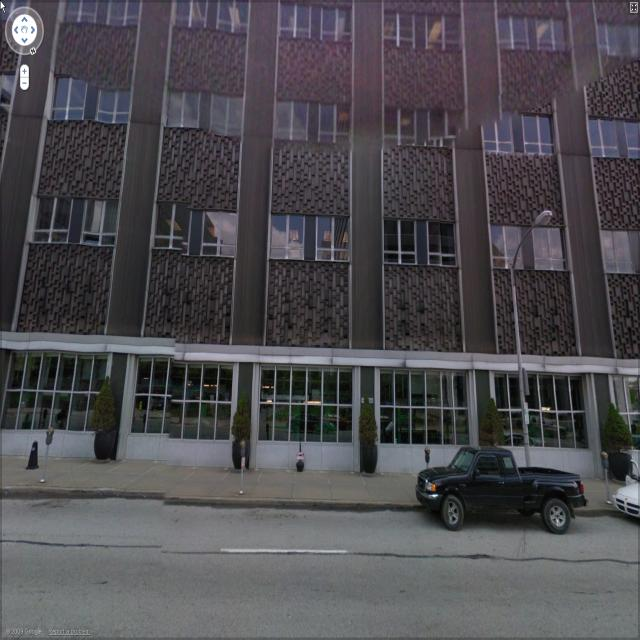window: (143, 188, 197, 259), (27, 187, 77, 252), (524, 210, 568, 280), (78, 193, 122, 253), (474, 104, 518, 161), (486, 8, 536, 58), (202, 201, 241, 265), (377, 96, 421, 152), (376, 212, 420, 268), (518, 108, 562, 163), (484, 217, 522, 279), (309, 207, 349, 265), (52, 72, 92, 129), (580, 110, 622, 164), (96, 81, 140, 132), (419, 102, 461, 155), (270, 98, 316, 146), (162, 86, 206, 136), (207, 90, 246, 146), (422, 10, 464, 59), (265, 213, 305, 263), (313, 96, 351, 148), (316, 1, 359, 46), (380, 11, 420, 58), (421, 211, 455, 266), (279, 0, 315, 40), (538, 12, 568, 57), (218, 1, 252, 36)
